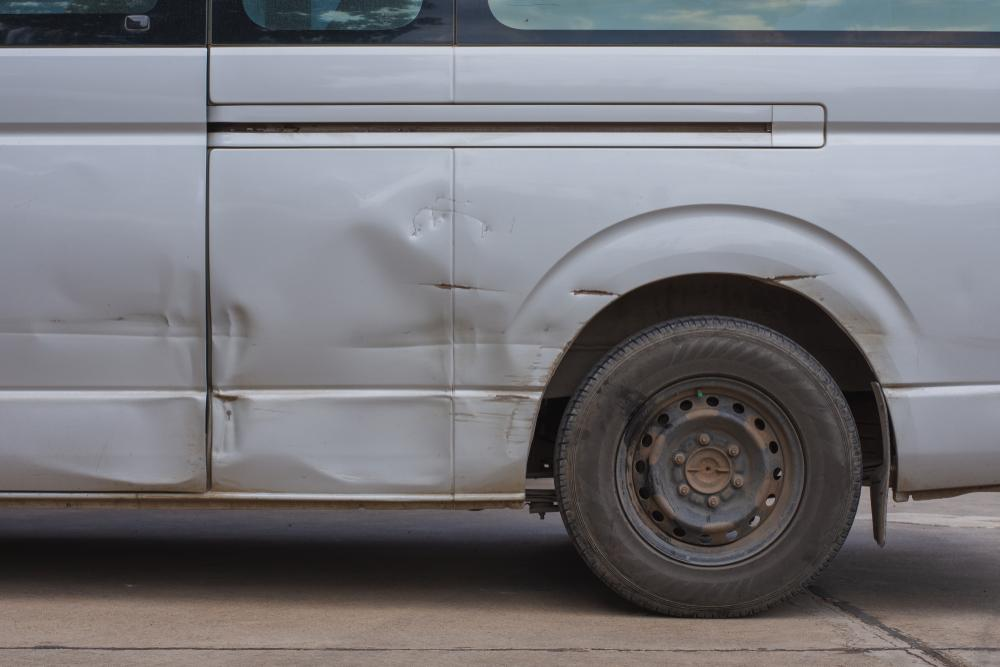dent: (206, 178, 563, 497), (0, 254, 207, 494), (840, 305, 887, 351), (765, 273, 828, 283), (571, 289, 625, 297)
